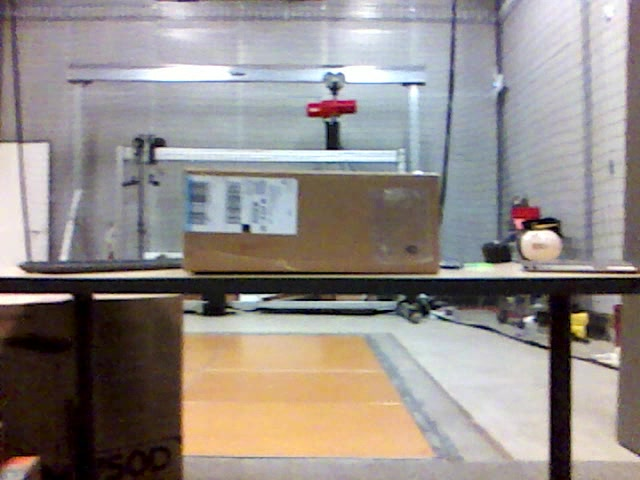box: (183, 168, 442, 270)
